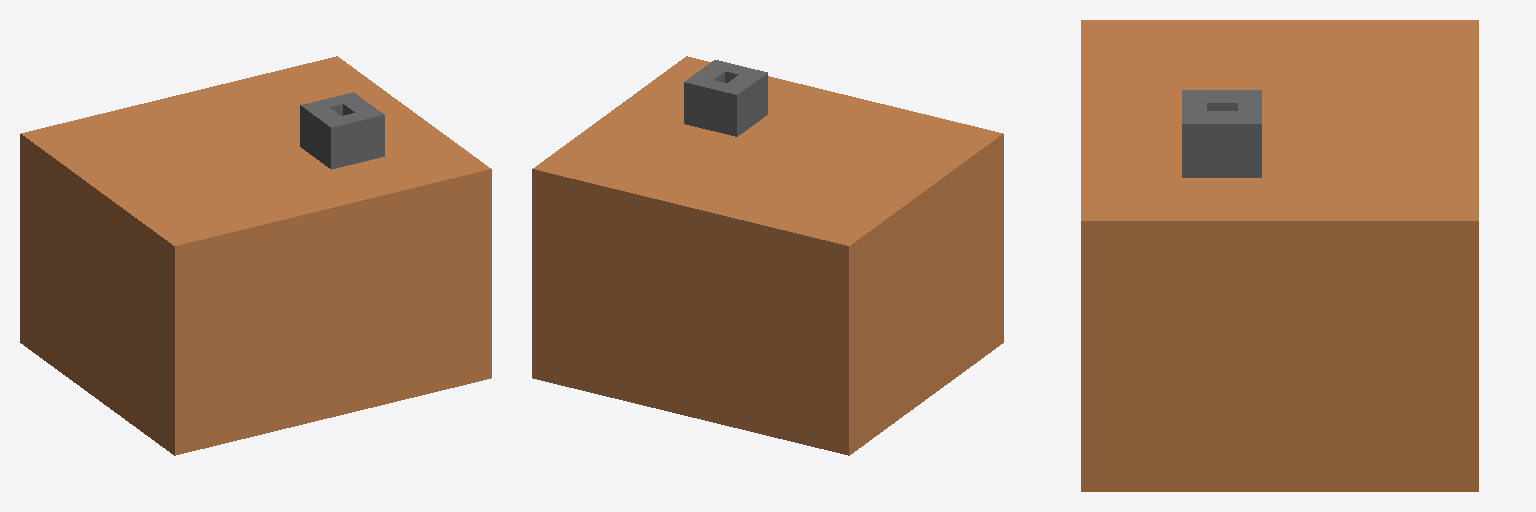
robot.urdf — peg_in_hole_tolerances_scenes_val_scene_0001_tol06:
<?xml version="1.0"?>
<robot name="peg_in_hole_tolerances_scenes_val_scene_0001_tol06">
  <material name="wood"><color rgba="0.82 0.56 0.35 1.0"/></material>
  <material name="hole_grey"><color rgba="0.4706 0.4706 0.4706 1.0"/></material>
  <link name="box">
    <visual>
      <origin xyz="0.000000 0.000000 0.000000" rpy="0 0 0"/>
      <geometry><box size="0.475000 0.400000 0.300000"/></geometry>
      <material name="wood"/>
    </visual>
    <collision>
      <origin xyz="0.000000 0.000000 0.000000" rpy="0 0 0"/>
      <geometry><box size="0.475000 0.400000 0.300000"/></geometry>
    </collision>
    <visual>
      <origin xyz="0.096247 -0.057877 0.155000" rpy="0 0 0"/>
      <geometry><box size="0.080000 0.080000 0.010000"/></geometry>
      <material name="hole_grey"/>
    </visual>
    <collision>
      <origin xyz="0.096247 -0.057877 0.155000" rpy="0 0 0"/>
      <geometry><box size="0.080000 0.080000 0.010000"/></geometry>
    </collision>
    <visual>
      <origin xyz="0.121398 -0.057877 0.185000" rpy="0 0 0"/>
      <geometry><box size="0.029700 0.080000 0.050000"/></geometry>
      <material name="hole_grey"/>
    </visual>
    <collision>
      <origin xyz="0.121398 -0.057877 0.185000" rpy="0 0 0"/>
      <geometry><box size="0.029700 0.080000 0.050000"/></geometry>
    </collision>
    <visual>
      <origin xyz="0.071097 -0.057877 0.185000" rpy="0 0 0"/>
      <geometry><box size="0.029700 0.080000 0.050000"/></geometry>
      <material name="hole_grey"/>
    </visual>
    <collision>
      <origin xyz="0.071097 -0.057877 0.185000" rpy="0 0 0"/>
      <geometry><box size="0.029700 0.080000 0.050000"/></geometry>
    </collision>
    <visual>
      <origin xyz="0.096247 -0.030227 0.185000" rpy="0 0 0"/>
      <geometry><box size="0.020601 0.024700 0.050000"/></geometry>
      <material name="hole_grey"/>
    </visual>
    <collision>
      <origin xyz="0.096247 -0.030227 0.185000" rpy="0 0 0"/>
      <geometry><box size="0.020601 0.024700 0.050000"/></geometry>
    </collision>
    <visual>
      <origin xyz="0.096247 -0.085527 0.185000" rpy="0 0 0"/>
      <geometry><box size="0.020601 0.024700 0.050000"/></geometry>
      <material name="hole_grey"/>
    </visual>
    <collision>
      <origin xyz="0.096247 -0.085527 0.185000" rpy="0 0 0"/>
      <geometry><box size="0.020601 0.024700 0.050000"/></geometry>
    </collision>
    <inertial>
      <mass value="500"/>
      <friction value="1.0"/>
      <inertia ixx="1000.0" ixy="0.0" ixz="0.0" iyy="1000.0" iyz="0.0" izz="1000.0"/>
    </inertial>
  </link>
</robot>

--- Facts derived from the render (not from the file) ---
3 views of the same robot in one strip: view 1: azimuth 30°, elevation 25°; view 2: azimuth 150°, elevation 25°; view 3: azimuth 270°, elevation 25° (orthographic).
Model peg_in_hole_tolerances_scenes_val_scene_0001_tol06 with 1 links and 0 joints (none), rooted at box, posed every joint at zero.
Links seen in each view (by area): view 1: box; view 2: box; view 3: box.
Link boxes in pixels (x1,y1,x2,y2): box: (20,56,491,455); box: (532,56,1003,455); box: (1081,20,1478,491).
Size in the robot's own frame: 0.475 by 0.4 by 0.36 metres.
Geometry: primitives only (box / cylinder / sphere), no mesh files.
